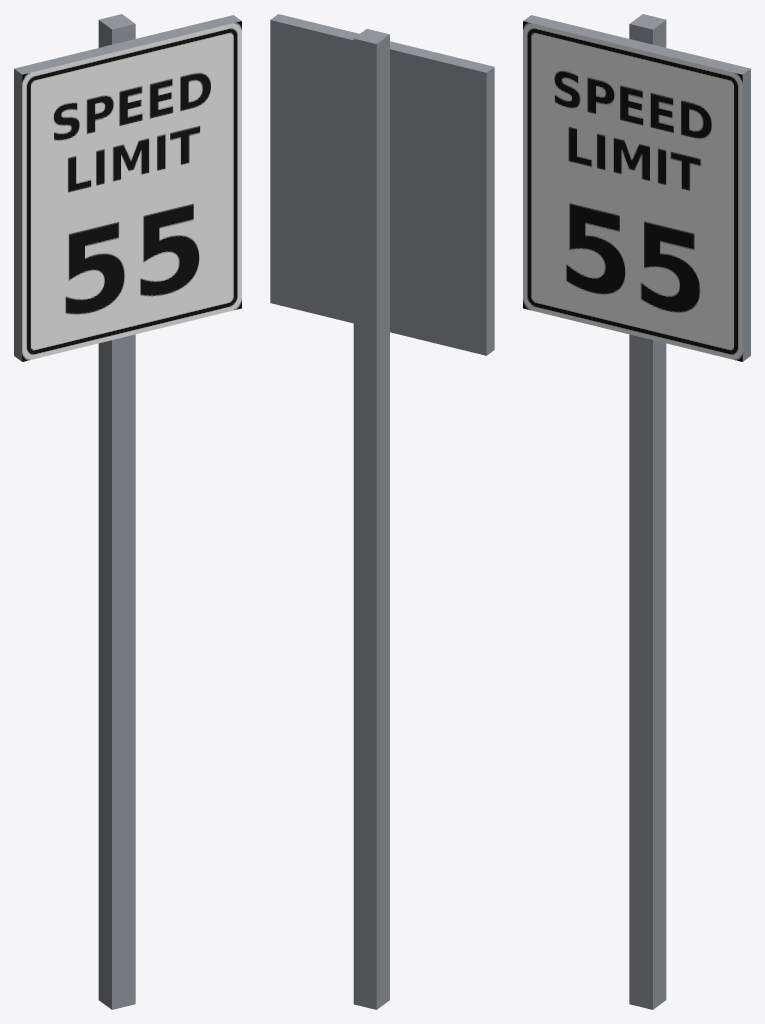
Rendered from us_speed55.dae.
3 renders of one model, left to right at view 1: azimuth 30°, elevation 25°; view 2: azimuth 150°, elevation 25°; view 3: azimuth 330°, elevation 25°, orthographic.
Visible parts, largest first — view 1: sign4, Colmesh-1; view 2: Colmesh-1, sign4; view 3: sign4, Colmesh-1.
Part boxes in pixels (x1,y1,x2,y2): sign4: [22, 14, 241, 1009]; Colmesh-1: [14, 15, 241, 361]; Colmesh-1: [270, 14, 494, 355]; sign4: [353, 29, 389, 1009]; sign4: [523, 14, 742, 1009]; Colmesh-1: [523, 15, 750, 361].
Size of the model in its own units: 0.6096 by 0.105 by 2.6.
2 materials, 1 textured.
